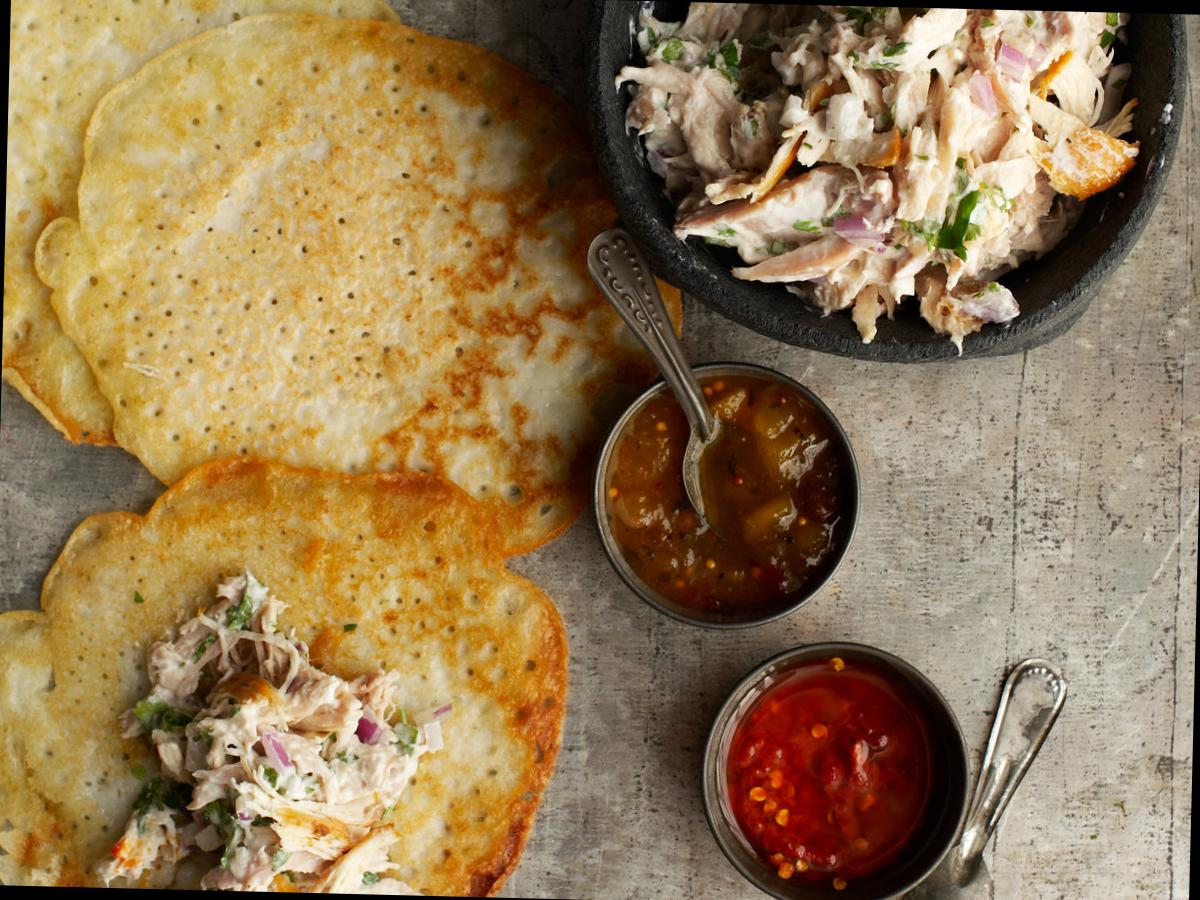dosa: (42, 14, 677, 516)
